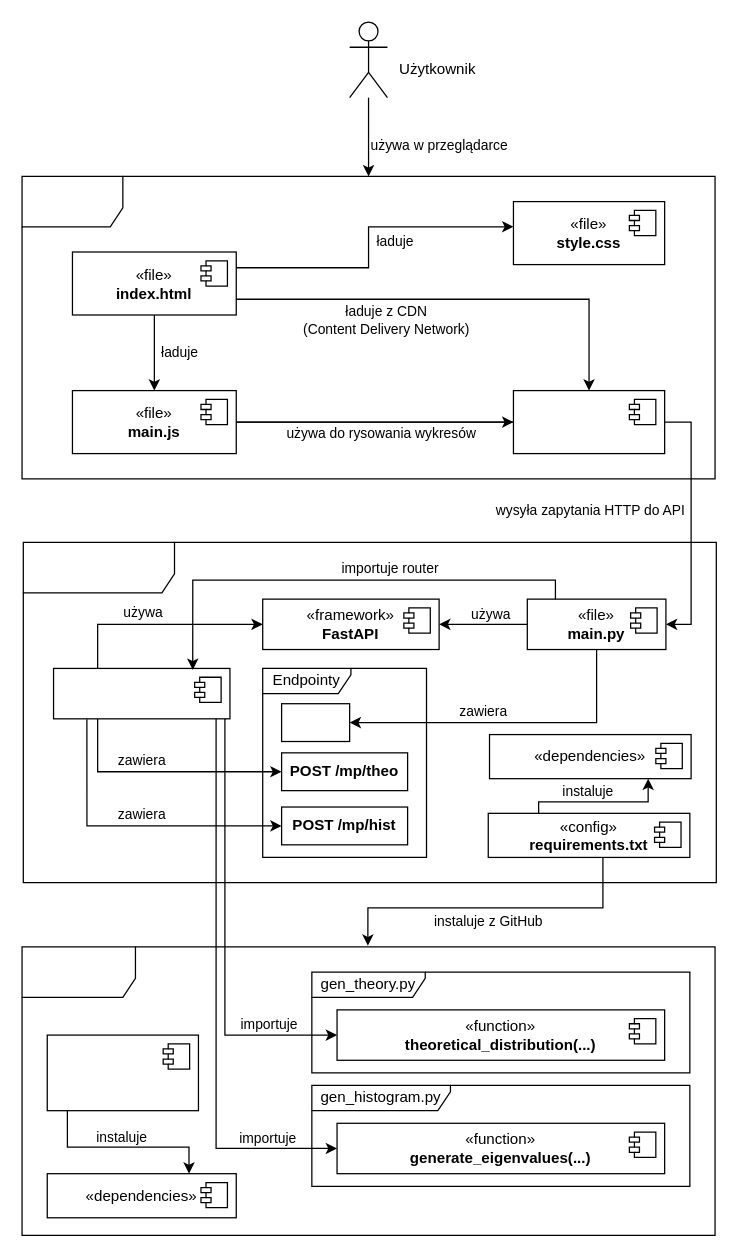
Image size: 738x1257. Some labels were removed from this diagram. The shapes that lost their labels are listed below. From the top down, each one's box as (x1, y1, x2, y2) in pixels, then its label:
(21, 175, 715, 479): Frontend (EigenFlow)
(512, 389, 665, 454): «library» Chart.js
(52, 667, 230, 719): «file» compute.py
(22, 541, 716, 883): Backend (random-matrix-api)
(280, 702, 350, 742): GET /
(46, 1034, 198, 1111): «config» pyproject.toml
(21, 946, 715, 1235): Pakiet Python (mp-package)
